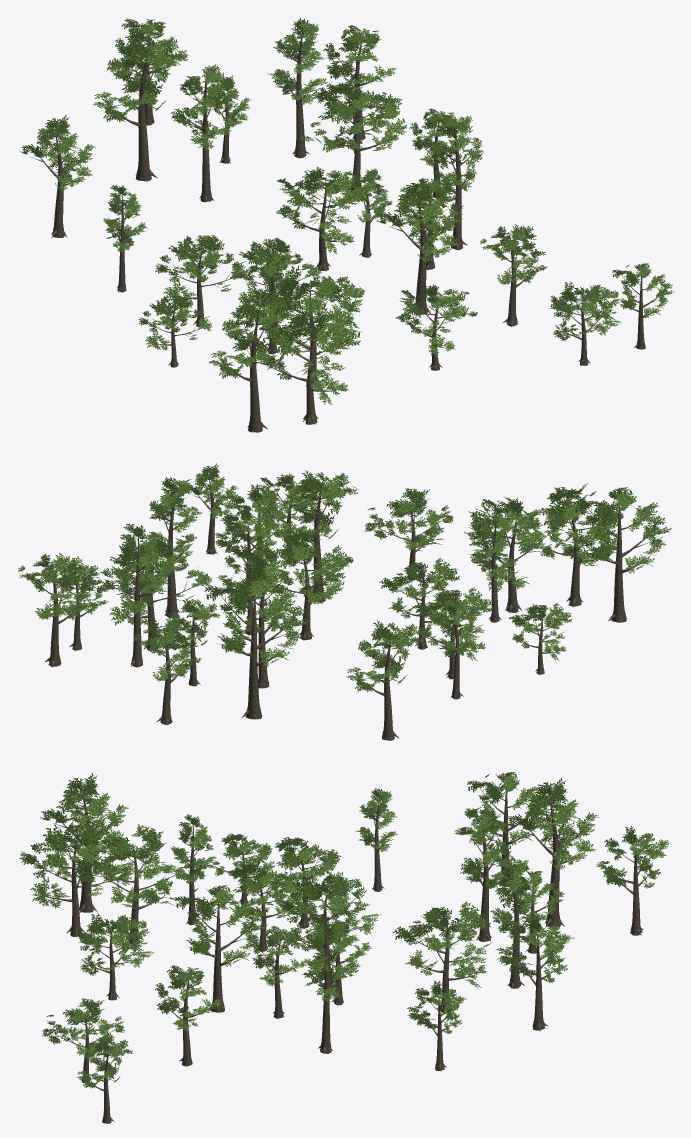
The model's file is Canopy_09_13.glb.
3 views of the same model, one above another, from view 1: azimuth 30°, elevation 25°; view 2: azimuth 150°, elevation 25°; view 3: azimuth 270°, elevation 25° (orthographic). The views are drawn at different scales.
Visible parts, largest first — view 1: Canopy_09_13; view 2: Canopy_09_13; view 3: Canopy_09_13.
Part boxes in pixels (left/top/right/bottom): Canopy_09_13: left=19, top=18, right=674, bottom=432; Canopy_09_13: left=18, top=463, right=671, bottom=740; Canopy_09_13: left=19, top=772, right=670, bottom=1123.
Size of the model in its own units: 70.84 by 30.42 by 86.54.
2 materials, 2 textured.
